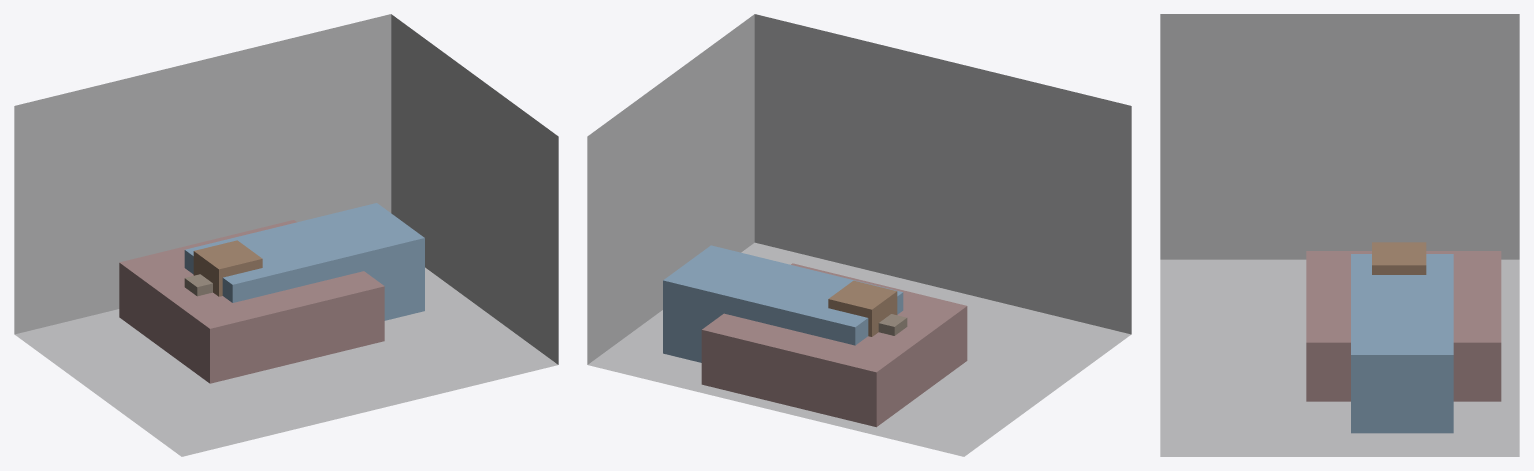
The model's file is optimised_layout.glb.
The picture shows the model from 3 angles, left to right: view 1: azimuth 30°, elevation 25°; view 2: azimuth 150°, elevation 25°; view 3: azimuth 270°, elevation 25°; orthographic projection. The views are drawn at different scales.
Visible parts, largest first — view 1: room, bed, couch, chair; view 2: room, bed, couch, chair; view 3: room, couch, bed, chair.
Part boxes in pixels (<box>): room: <box>14,14,558,456</box>; bed: <box>119,220,384,383</box>; couch: <box>184,203,424,320</box>; chair: <box>193,240,262,296</box>; room: <box>587,14,1131,456</box>; bed: <box>701,263,967,427</box>; couch: <box>663,245,903,362</box>; chair: <box>828,280,897,336</box>; room: <box>1160,14,1519,456</box>; couch: <box>1351,254,1453,433</box>; bed: <box>1306,251,1501,401</box>; chair: <box>1372,242,1426,274</box>.
Bounding box in the file's own units: 4.31 × 2.5 × 3.32.
